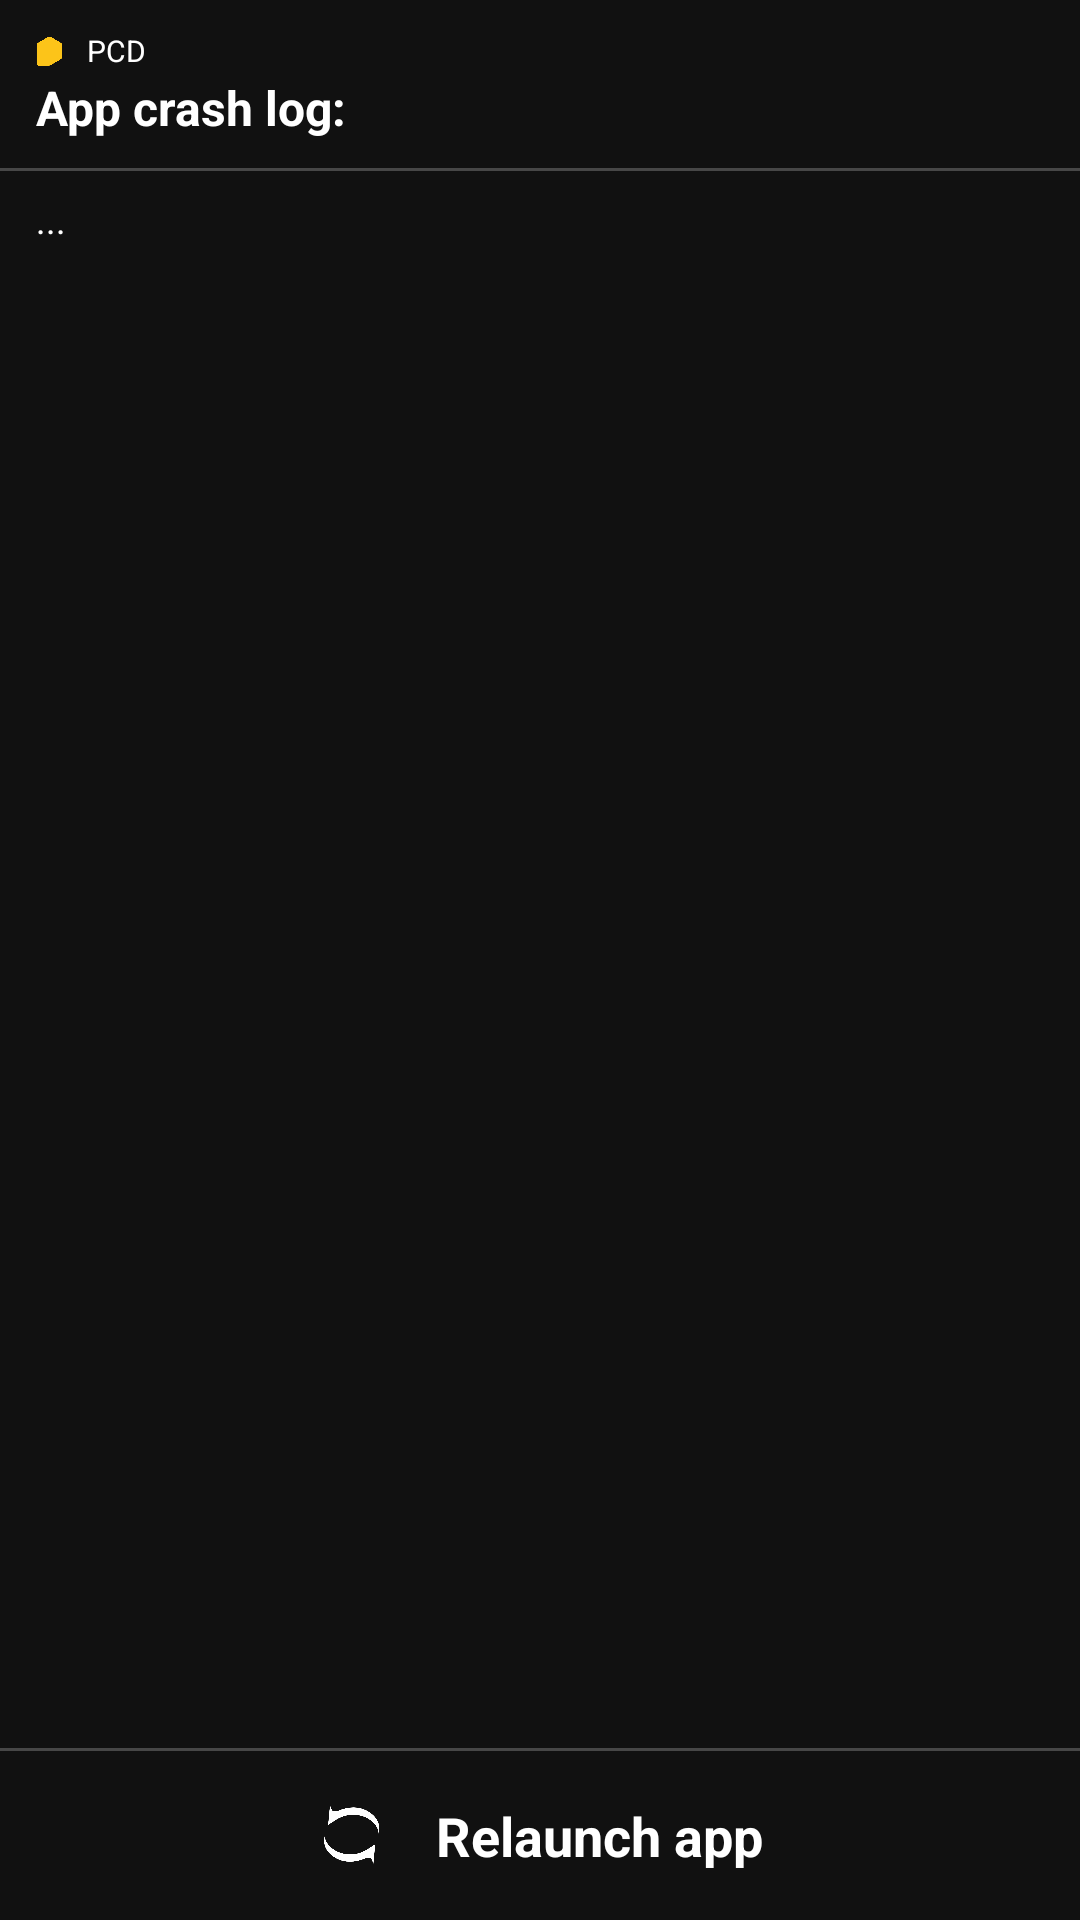

Icon bounding boxes for this 1080px×1920px phone screenshot, format (x1, y1, x2, y2):
refresh: (324, 1806, 379, 1864)
